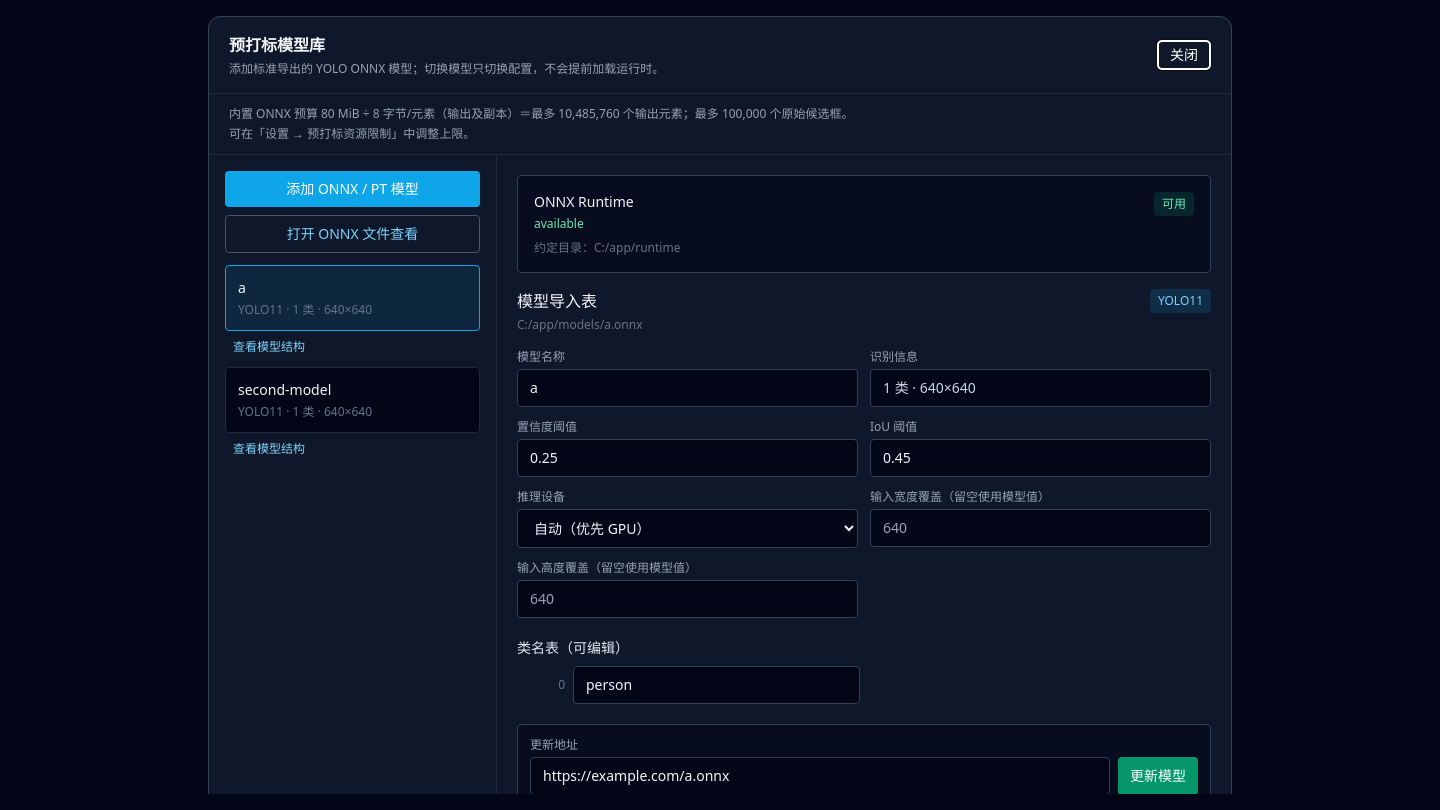
releases the lock without downloading when confirmation is declined
Click the button "更新模型".
click(1158, 776)  # box [1118, 757, 1198, 795]
(page scrolled)
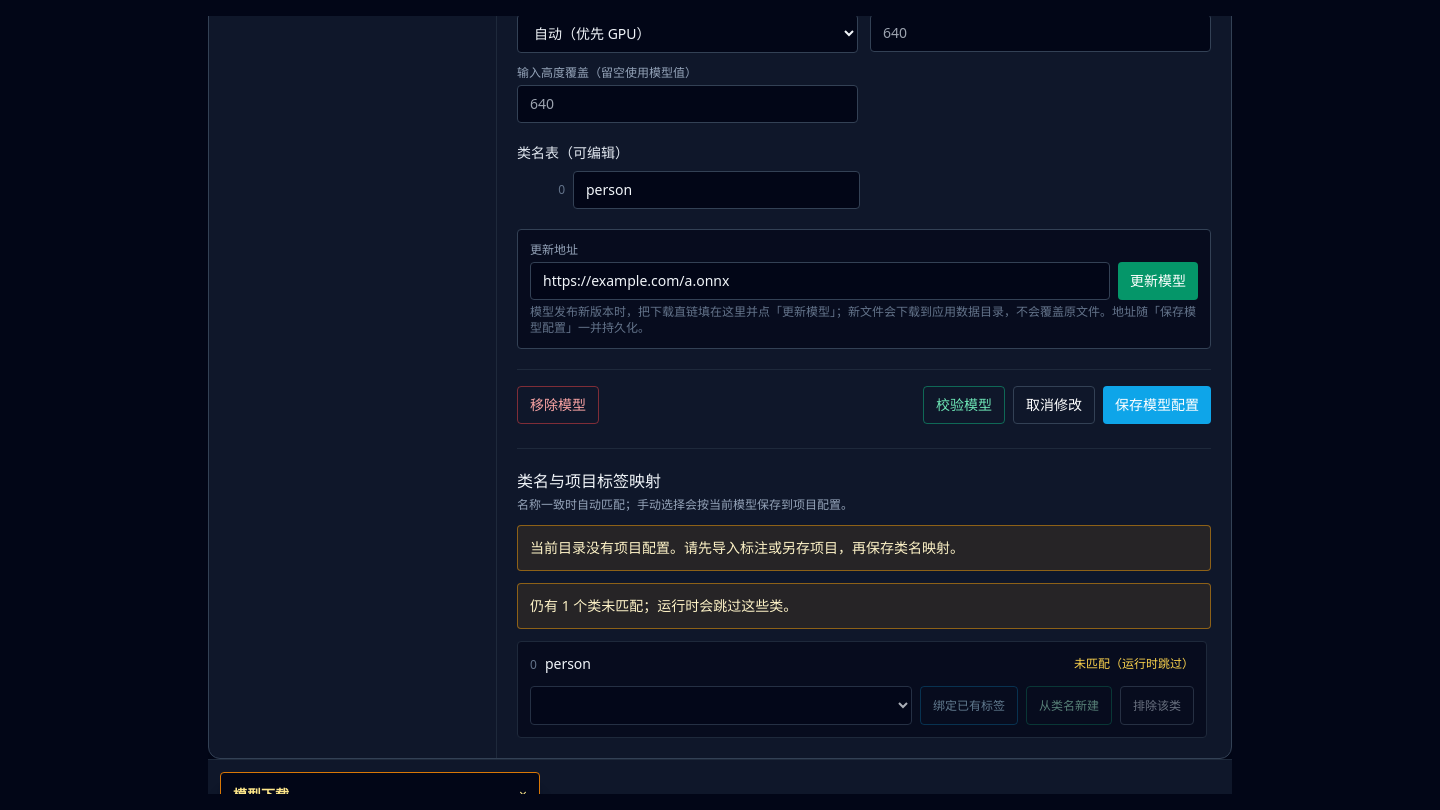
Expected: the button "移除模型" is enabled, [517, 386, 599, 424]
